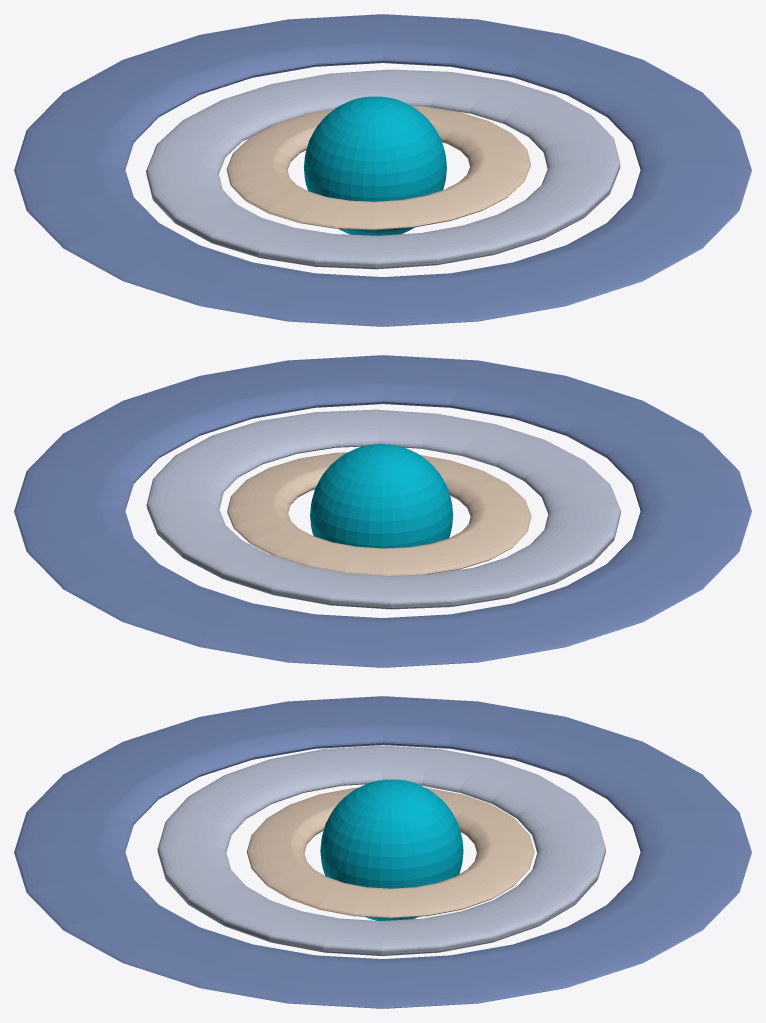
File: jasonplanet.glb
3 renders of one model, top to bottom at view 1: azimuth 30°, elevation 25°; view 2: azimuth 150°, elevation 25°; view 3: azimuth 270°, elevation 25°, orthographic.
Parts seen in each view (by area): view 1: Mesh_Mesh_head_geo.001_lambert2SG.001; view 2: Mesh_Mesh_head_geo.001_lambert2SG.001; view 3: Mesh_Mesh_head_geo.001_lambert2SG.001.
Part boxes in pixels (left/top/right/bottom): Mesh_Mesh_head_geo.001_lambert2SG.001: left=14, top=14, right=751, bottom=326; Mesh_Mesh_head_geo.001_lambert2SG.001: left=14, top=355, right=751, bottom=667; Mesh_Mesh_head_geo.001_lambert2SG.001: left=14, top=696, right=751, bottom=1008.
Size of the model in its own units: 412 by 80 by 412.
